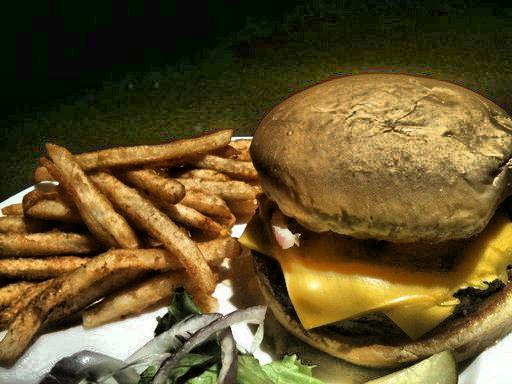burger: (247, 67, 512, 364)
